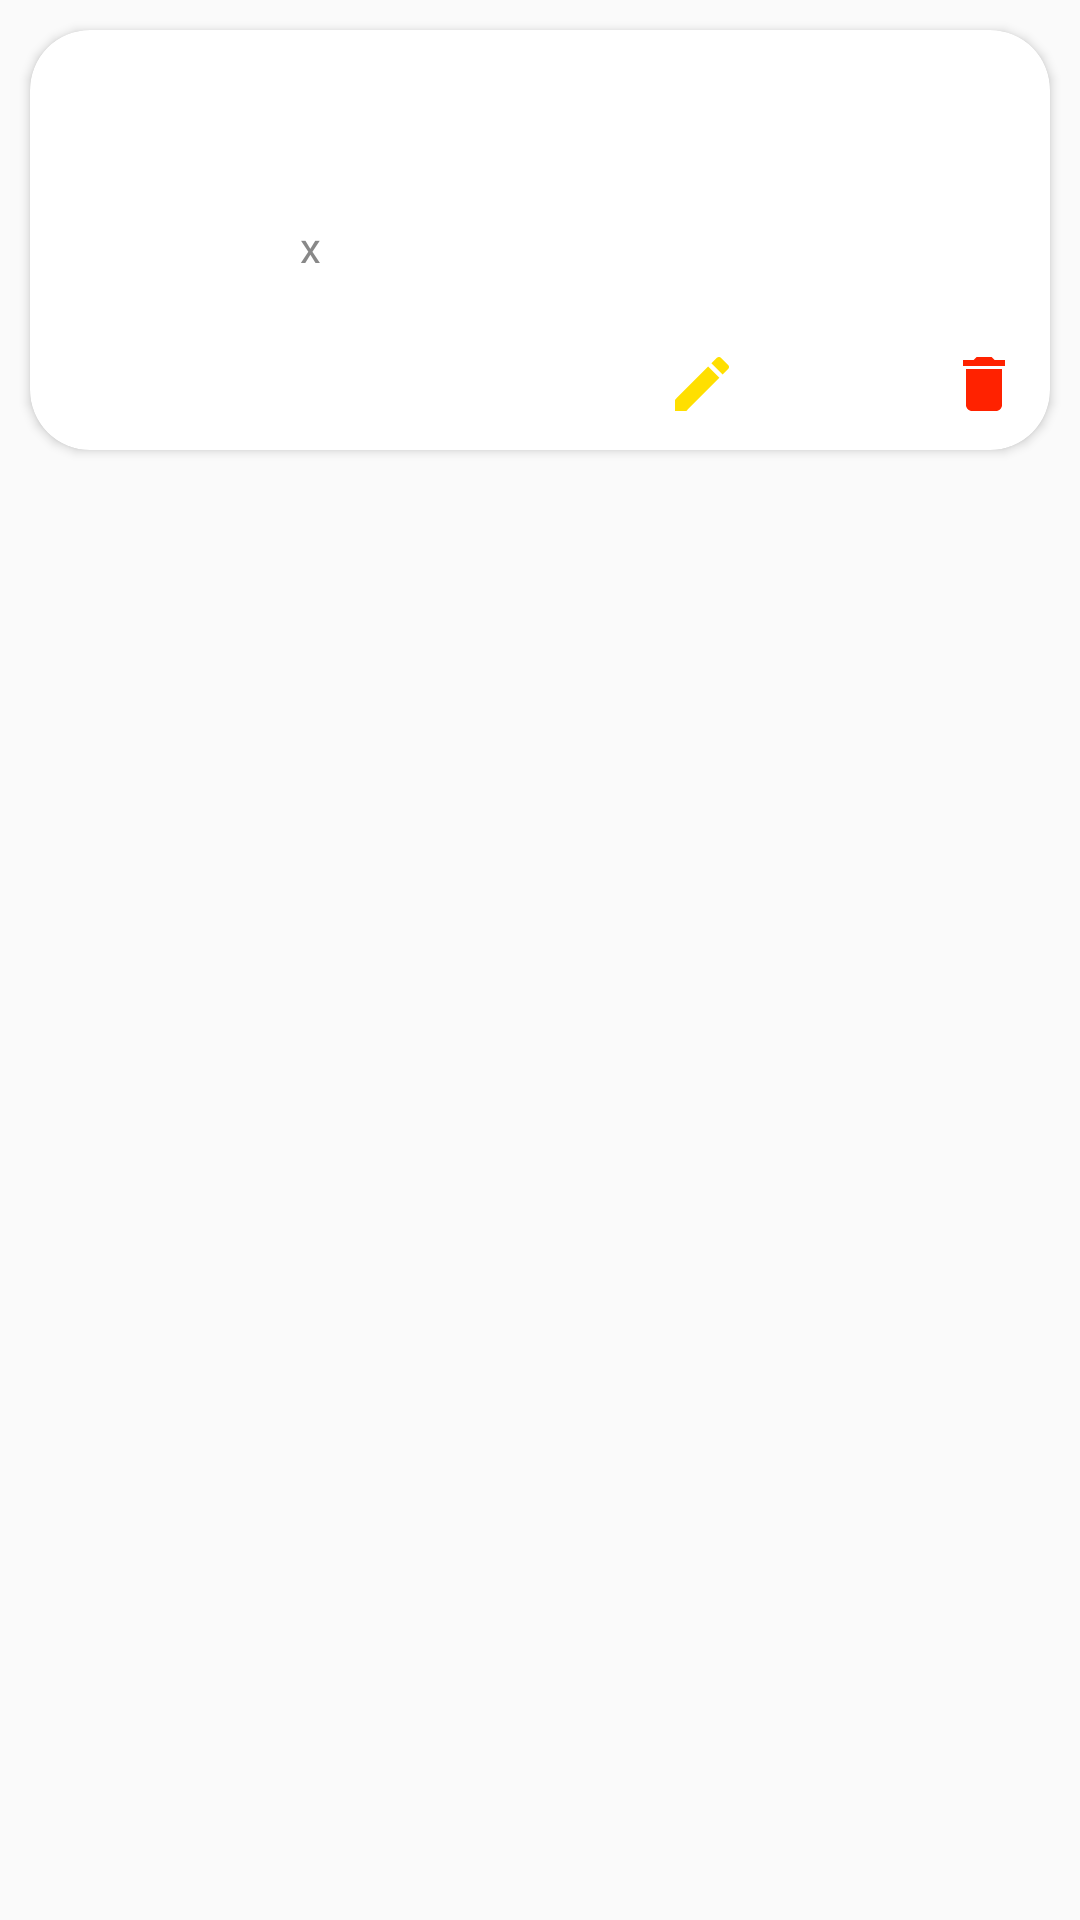

Screen size 1080px×1920px. Icon name, then its center in pixels as (x=x, y=y):
delete: (x=984, y=384)
edit: (x=702, y=384)
